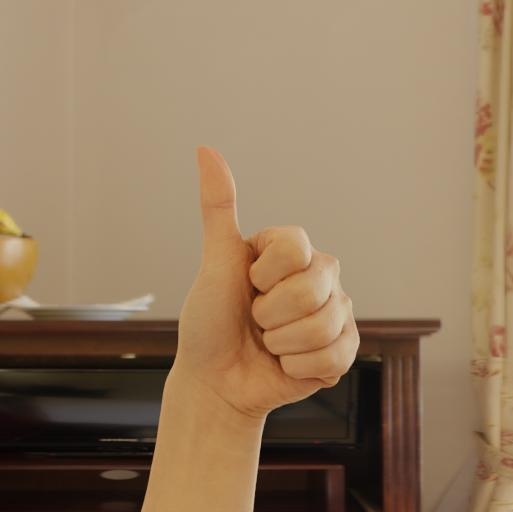thumbs-up: (208, 136, 369, 408)
